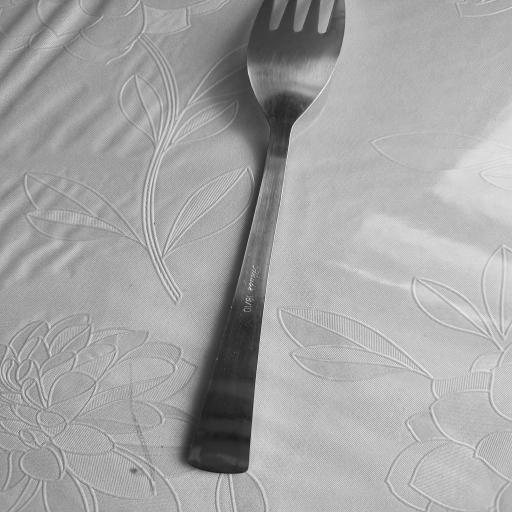fork: (180, 0, 351, 478)
